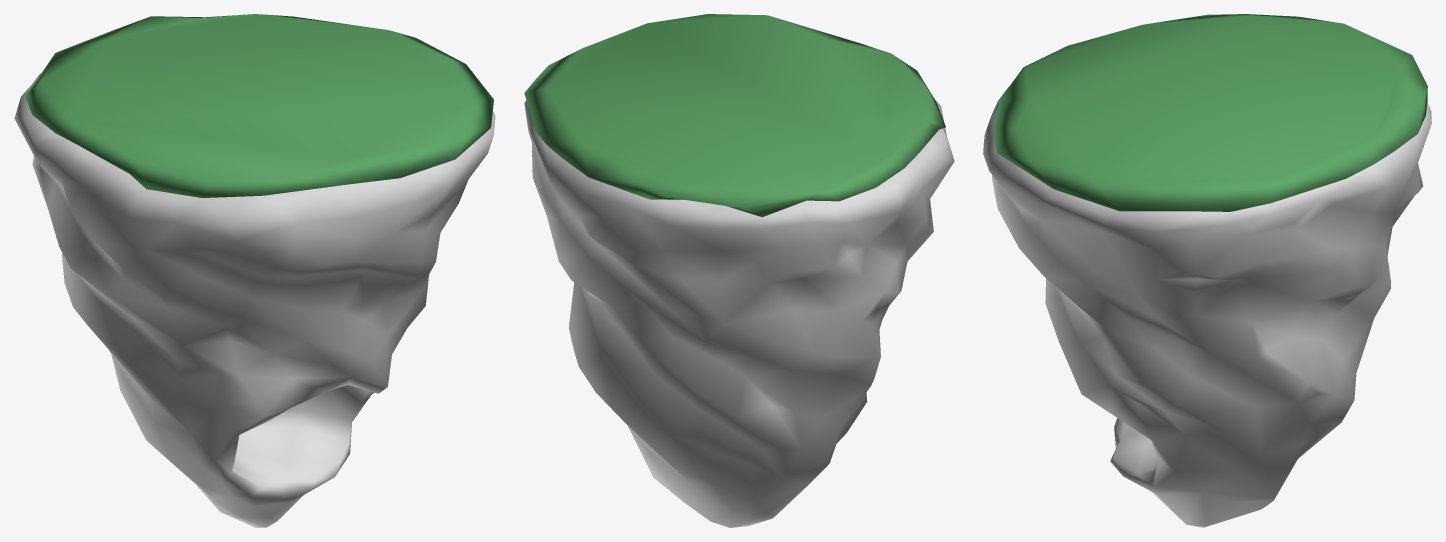
The model's file is IslandConeFlatTopLOD1.fbx.
3 views of the same model, side by side, from view 1: azimuth 30°, elevation 25°; view 2: azimuth 150°, elevation 25°; view 3: azimuth 270°, elevation 25° (orthographic). The views are drawn at different scales.
Parts seen in each view (by area): view 1: IslandBowl1Base.004, IslandBowl1Base.005; view 2: IslandBowl1Base.004, IslandBowl1Base.005; view 3: IslandBowl1Base.004, IslandBowl1Base.005.
Boxes of the visible parts, box(x1,y1,x2,y2) form: IslandBowl1Base.004: box(14, 73, 495, 527); IslandBowl1Base.005: box(25, 14, 493, 197); IslandBowl1Base.004: box(524, 98, 954, 527); IslandBowl1Base.005: box(524, 14, 945, 217); IslandBowl1Base.004: box(983, 86, 1431, 527); IslandBowl1Base.005: box(993, 14, 1427, 211).
Size of the model in its own units: 8218 by 8612 by 8030.
